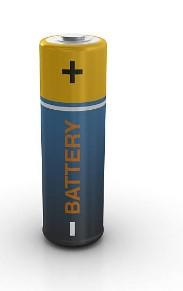Battery: (38, 33, 108, 250)
